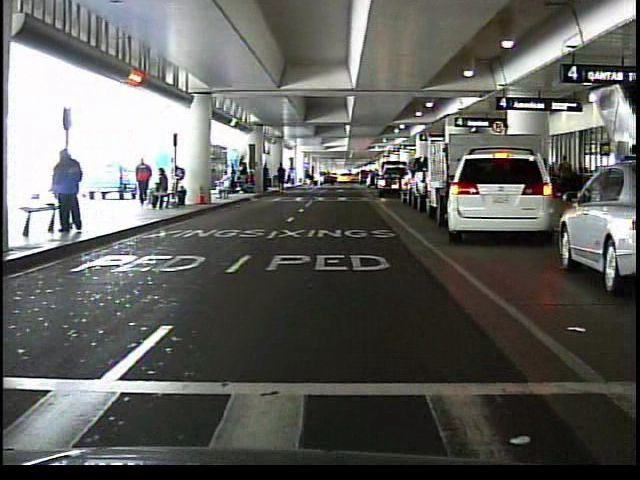person: (54, 144, 92, 236), (214, 170, 233, 205), (305, 163, 319, 192)
